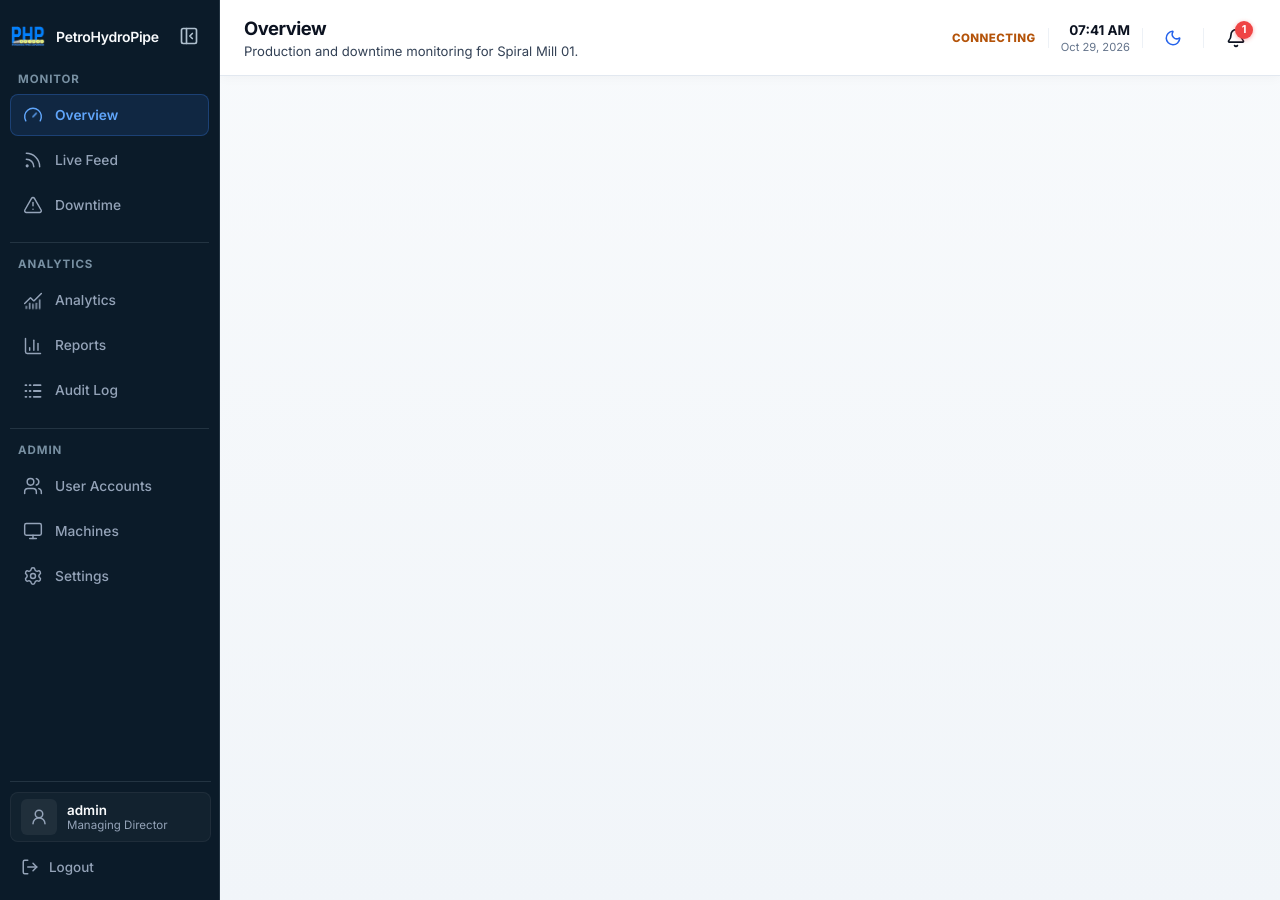
AdminDashboard alerts › shows active alert count and acknowledges an alert without reloading the dashboard
The image size is (1280, 900).
Click the button named "open alerts, 1 active" at (1236, 38), box [1216,18,1256,58]
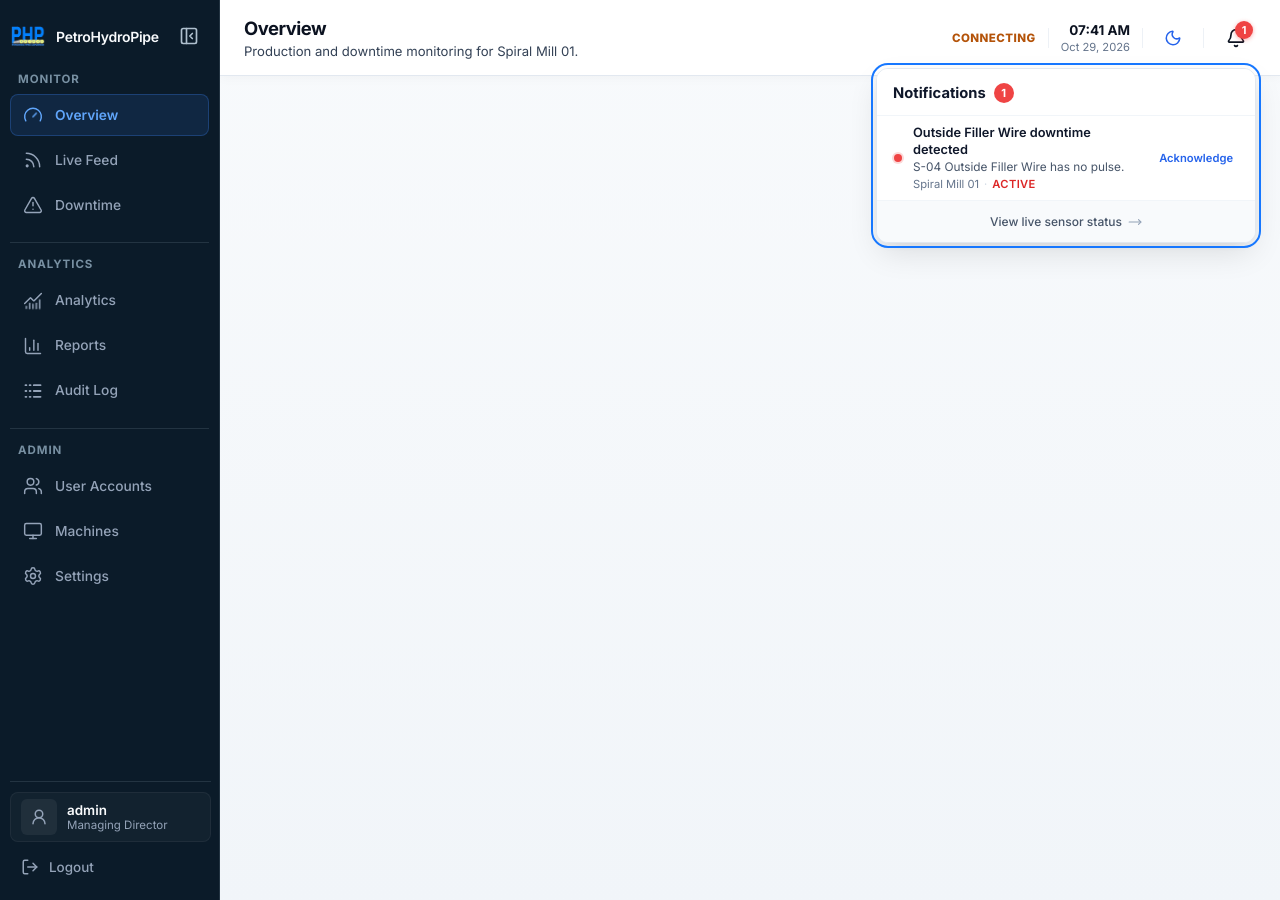
Result: the text "S-04 Outside Filler Wire has no pulse." is shown at [913,160,1141,175]
Click the button "Acknowledge" at (1196, 158), box [1151,146,1241,170]
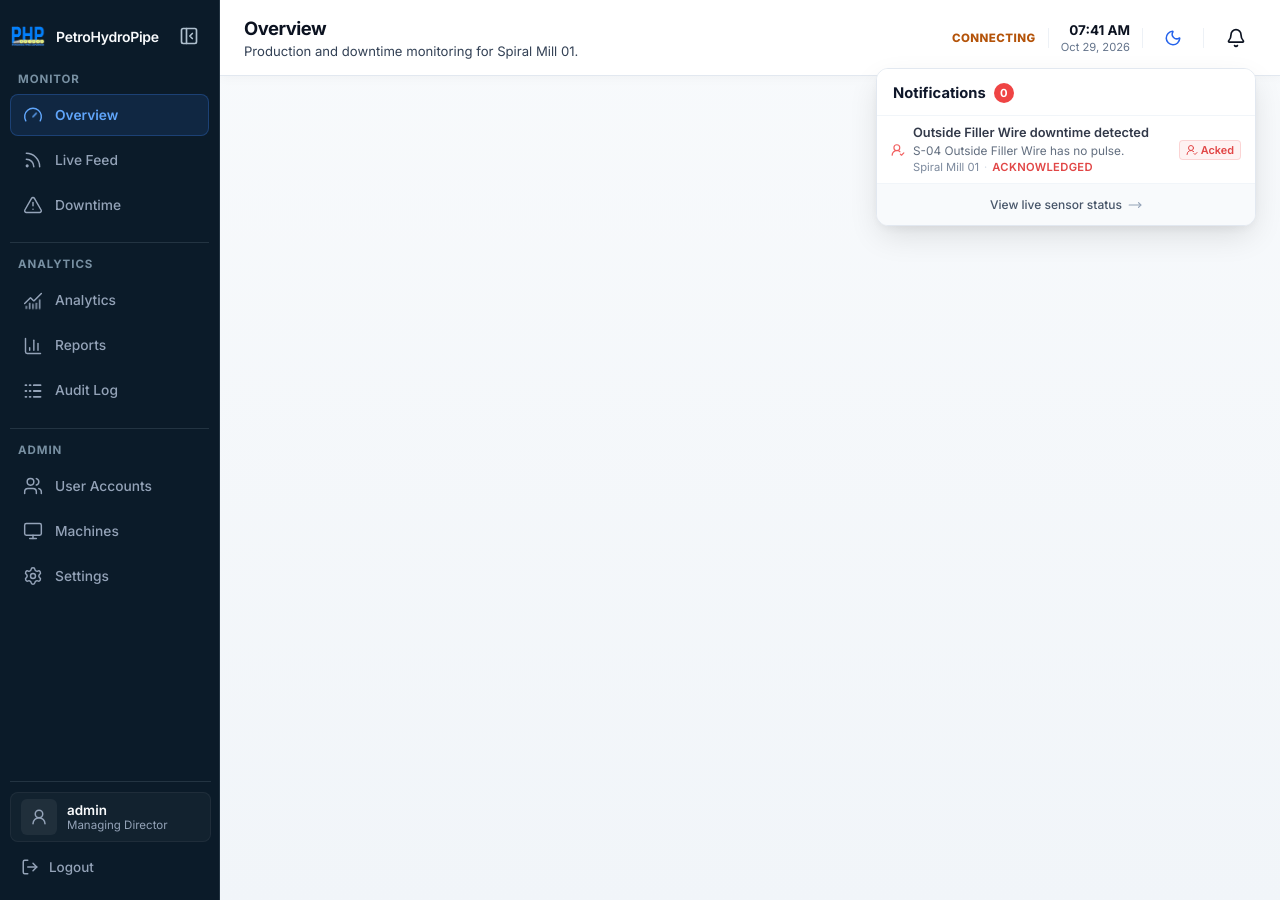
Result: the text "Acknowledged" is shown at [992,160,1093,174]
Result: the button named "open alerts, none active" is shown at [1216,18,1256,58]
